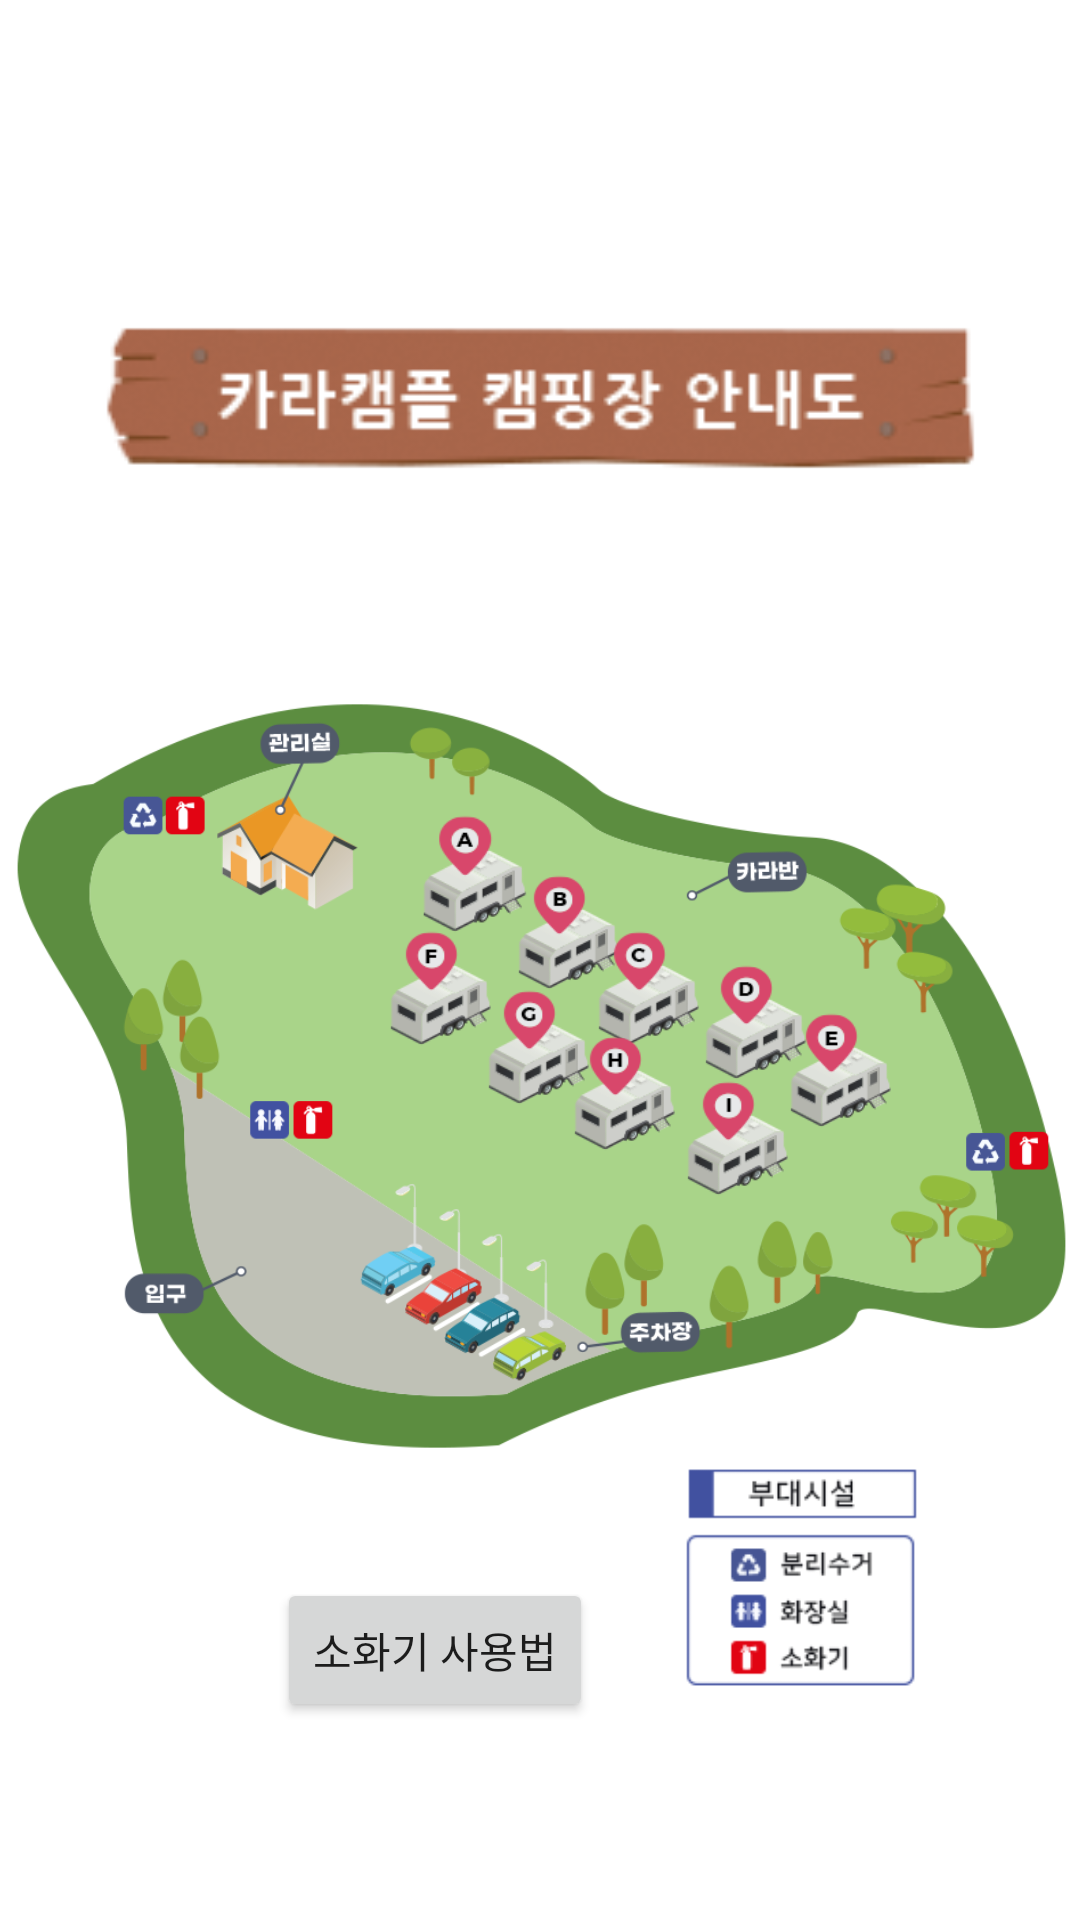

Icons on this 1080x1920 Android screen, each with the point to tap as [x,y]:
caravana: [474,873]
caravanb: [567,930]
caravanc: [647,986]
caravand: [754,1024]
caravane: [838,1068]
caravanf: [441,988]
caravang: [537,1045]
caravanh: [623,1091]
caravani: [738,1138]
